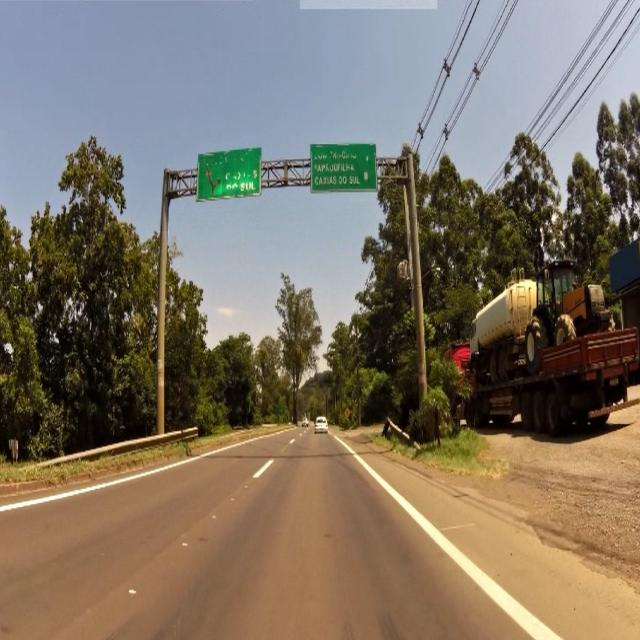I-4: (312, 147, 373, 192), (199, 152, 261, 195)
